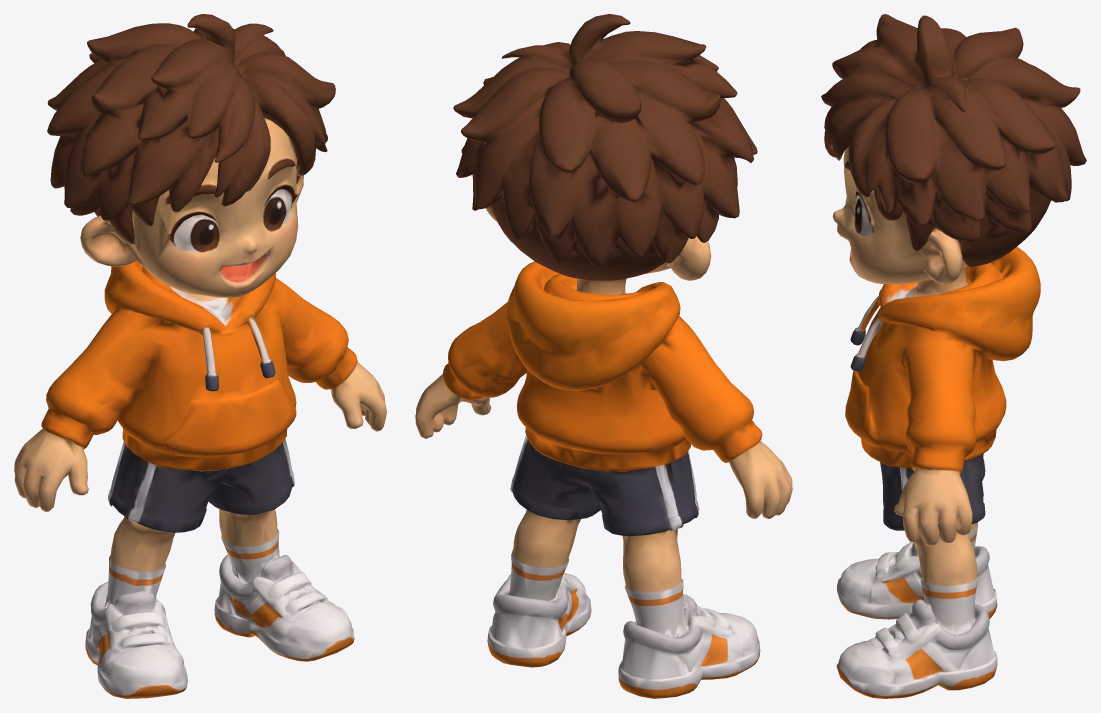
Rendered from kid.glb.
The picture shows the model from 3 angles, left to right: view 1: azimuth 30°, elevation 25°; view 2: azimuth 150°, elevation 25°; view 3: azimuth 270°, elevation 25°; orthographic projection. The views are drawn at different scales.
Parts seen in each view (by area): view 1: tripo_node_a86d4d63-4f2a-4982-a0a5-1321b580c3fb; view 2: tripo_node_a86d4d63-4f2a-4982-a0a5-1321b580c3fb; view 3: tripo_node_a86d4d63-4f2a-4982-a0a5-1321b580c3fb.
Part boxes in pixels (left/top/right/bottom): tripo_node_a86d4d63-4f2a-4982-a0a5-1321b580c3fb: left=14, top=14, right=386, bottom=698; tripo_node_a86d4d63-4f2a-4982-a0a5-1321b580c3fb: left=415, top=14, right=792, bottom=698; tripo_node_a86d4d63-4f2a-4982-a0a5-1321b580c3fb: left=821, top=14, right=1086, bottom=698.
Bounding box in the file's own units: 0.5896 × 0.9998 × 0.3856.
Materials: 1 (1 with a texture image).
